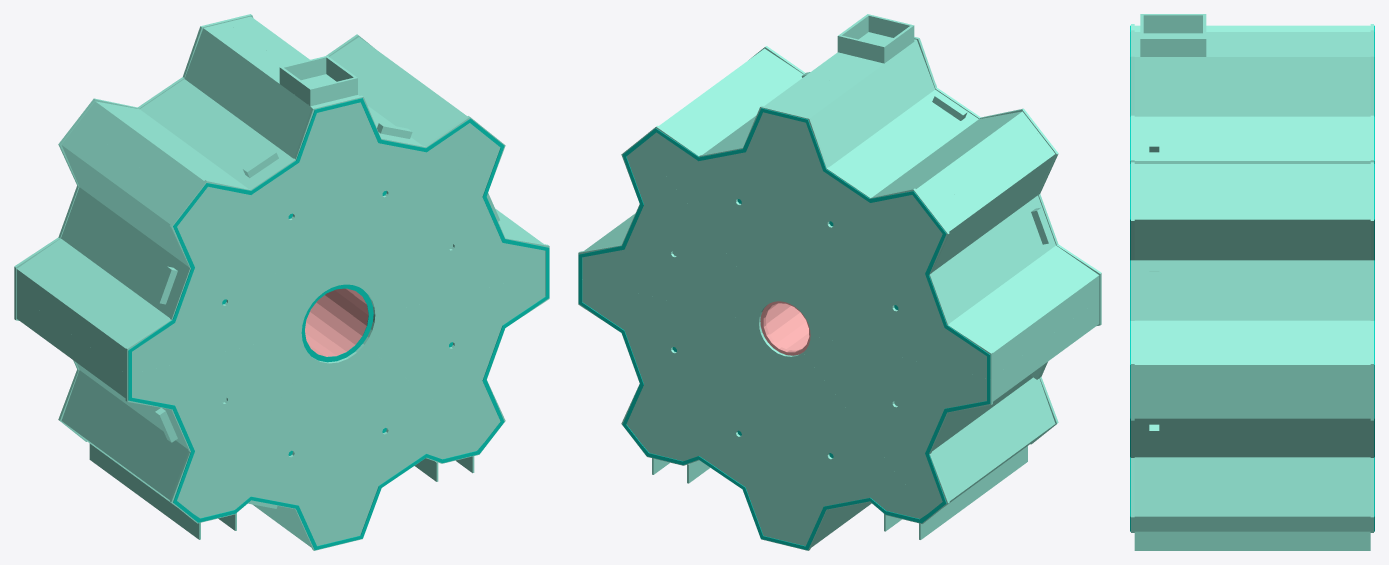
The model's file is End-Cap-Toroid-SideA.glb.
The picture shows the model from 3 angles, left to right: view 1: azimuth 30°, elevation 25°; view 2: azimuth 150°, elevation 25°; view 3: azimuth 270°, elevation 25°; orthographic projection. The views are drawn at different scales.
Visible parts, largest first — view 1: S__0536A8B8, S__05CE1148, S__1F0C5598; view 2: S__0536A8B8, S__05CE1148, S__1F0C5598; view 3: S__0536A8B8, S__05CE1148.
Part boxes in pixels (x1=…): S__0536A8B8: x1=14, y1=14, x2=549, y2=550; S__05CE1148: x1=128, y1=98, x2=549, y2=550; S__1F0C5598: x1=305, y1=288, x2=368, y2=356; S__0536A8B8: x1=578, y1=14, x2=1101, y2=550; S__05CE1148: x1=578, y1=108, x2=990, y2=550; S__1F0C5598: x1=760, y1=301, x2=810, y2=355; S__0536A8B8: x1=1131, y1=14, x2=1373, y2=550; S__05CE1148: x1=1130, y1=25, x2=1374, y2=531.
Size of the model in its own units: 10.68 by 11.07 by 4.98.
